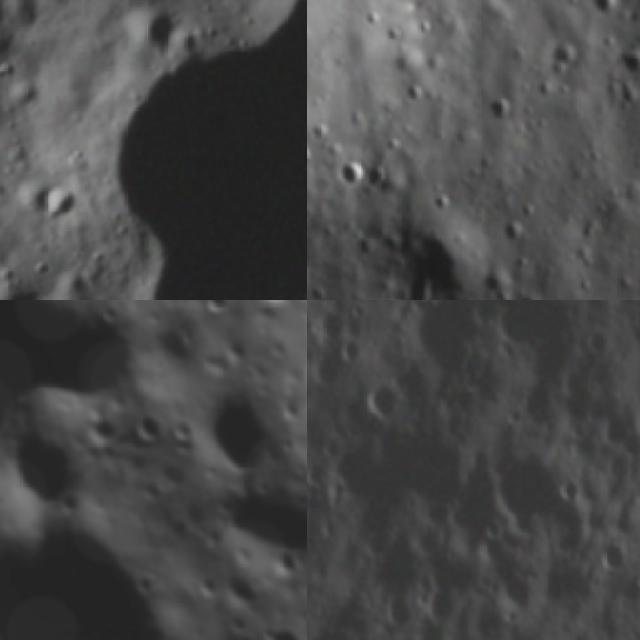crater: (84, 50, 307, 300), (0, 496, 183, 640), (486, 445, 600, 565), (176, 385, 282, 492), (126, 0, 192, 72), (362, 366, 404, 424), (24, 176, 76, 222), (596, 527, 638, 581), (121, 404, 168, 450), (307, 304, 354, 349), (328, 153, 374, 198), (249, 610, 307, 640), (363, 160, 400, 200), (477, 263, 516, 300), (307, 616, 366, 640), (7, 78, 45, 115), (547, 35, 578, 79), (381, 596, 416, 634), (26, 256, 56, 296), (190, 300, 235, 326), (480, 92, 515, 124), (499, 216, 535, 247), (399, 79, 428, 110), (426, 188, 456, 217), (362, 2, 383, 29), (589, 0, 622, 16), (619, 50, 640, 75), (384, 26, 402, 48), (419, 15, 432, 39)
